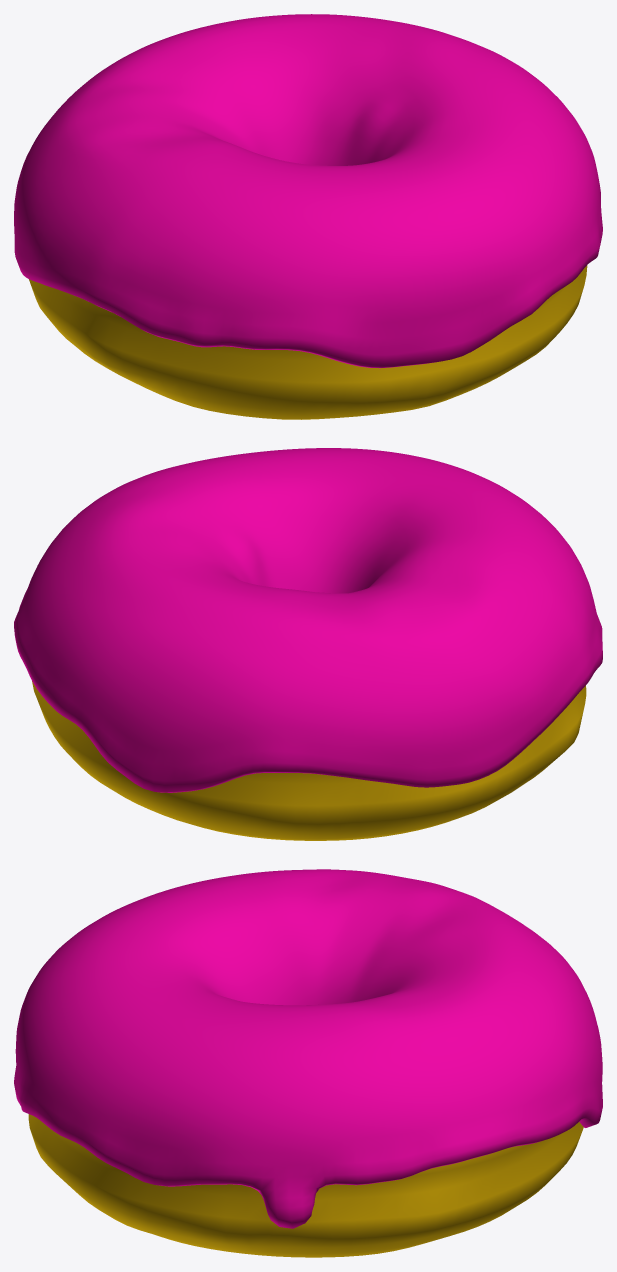
The model's file is Donut.glb.
3 views of the same model, one above another, from view 1: azimuth 30°, elevation 25°; view 2: azimuth 150°, elevation 25°; view 3: azimuth 270°, elevation 25° (orthographic).
Visible parts, largest first — view 1: Icing, Donut; view 2: Icing, Donut; view 3: Icing, Donut.
Boxes of the visible parts, x1=… form: Icing: x1=14, y1=14, x2=602, y2=368; Donut: x1=29, y1=265, x2=587, y2=419; Icing: x1=14, y1=448, x2=602, y2=792; Donut: x1=32, y1=681, x2=586, y2=840; Icing: x1=14, y1=869, x2=602, y2=1228; Donut: x1=28, y1=1114, x2=583, y2=1257.
Size of what is drawn, in the model's own units: 0.1036 by 0.0449 by 0.1029.
